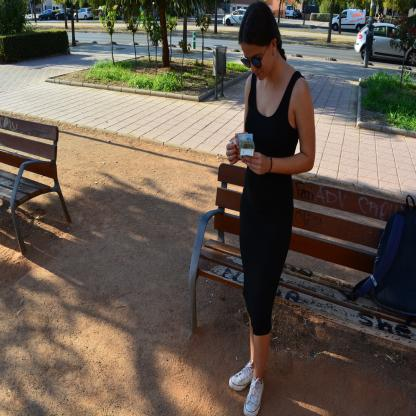billete: (229, 132, 254, 162)
